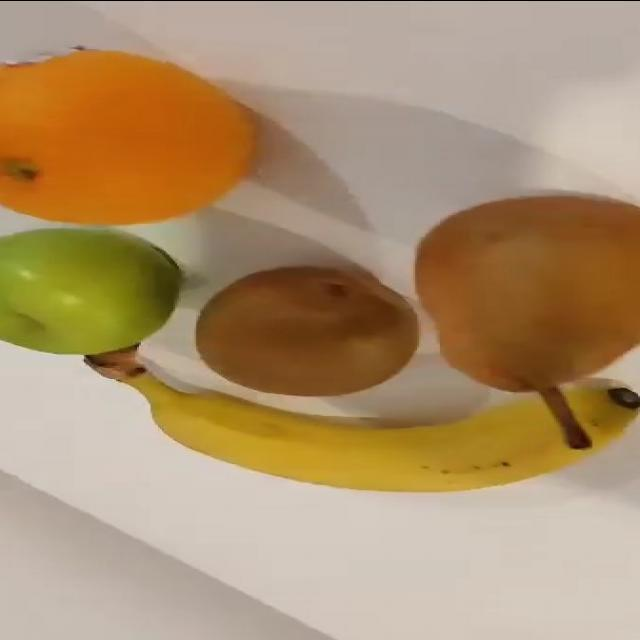Apple: (0, 226, 181, 355)
Banana: (83, 346, 639, 493)
Orange: (0, 46, 259, 225)
